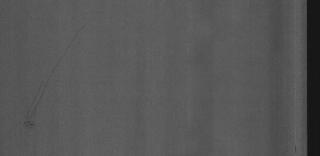water spot: (15, 68, 60, 134)
